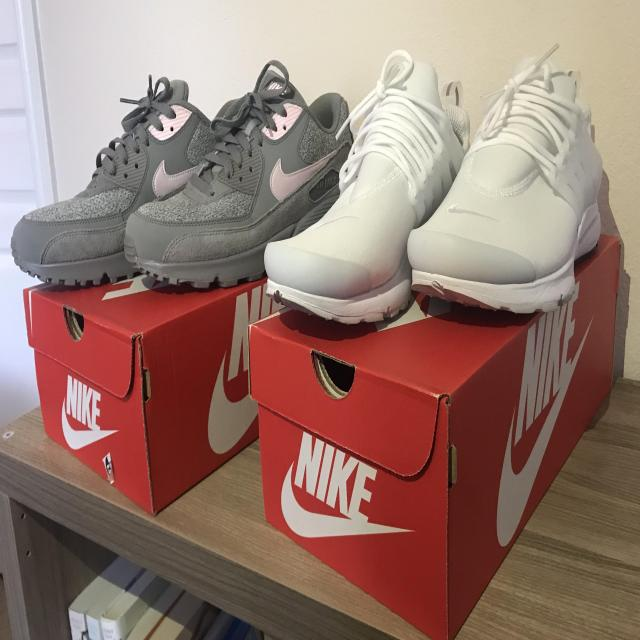shoes: (405, 45, 605, 316), (264, 57, 466, 322), (126, 77, 355, 291), (10, 68, 231, 281)
